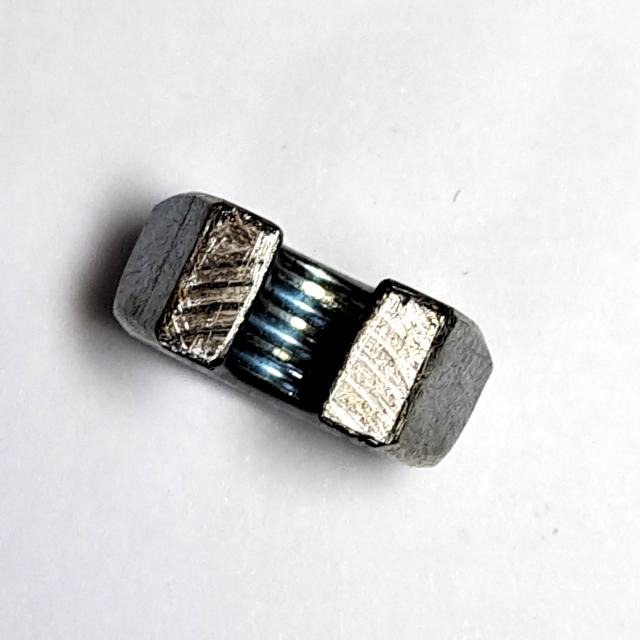Side-Fracture: (100, 175, 510, 484)
